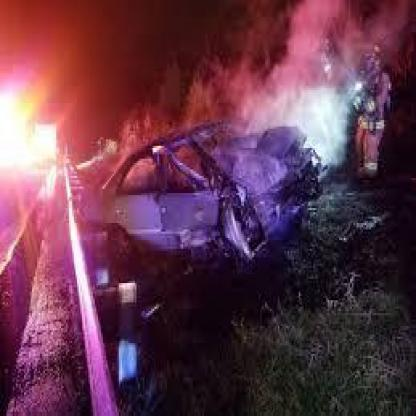other: (0, 66, 58, 178)
smoke: (246, 10, 351, 160)
